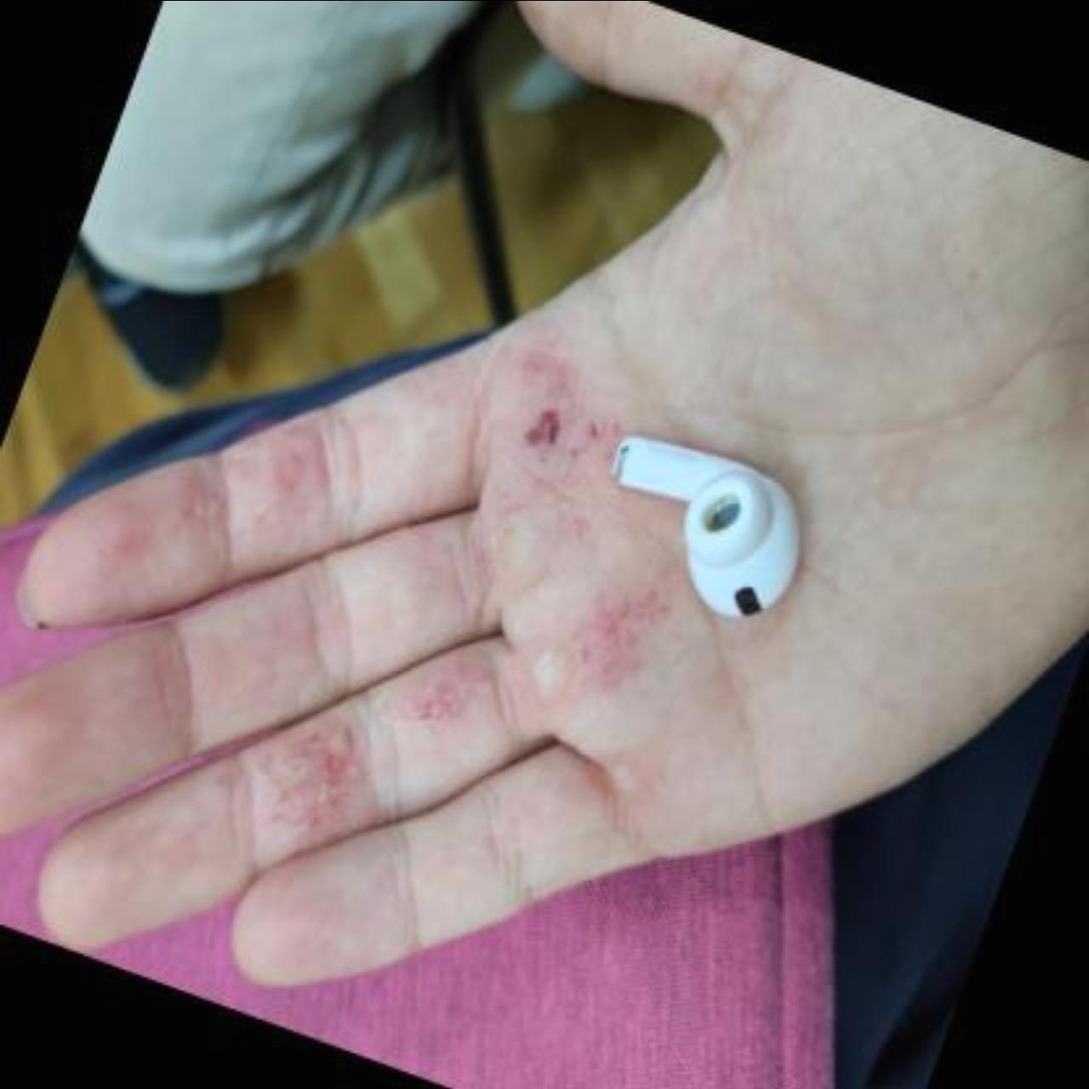Airpods_Units: (532, 365, 901, 656)
